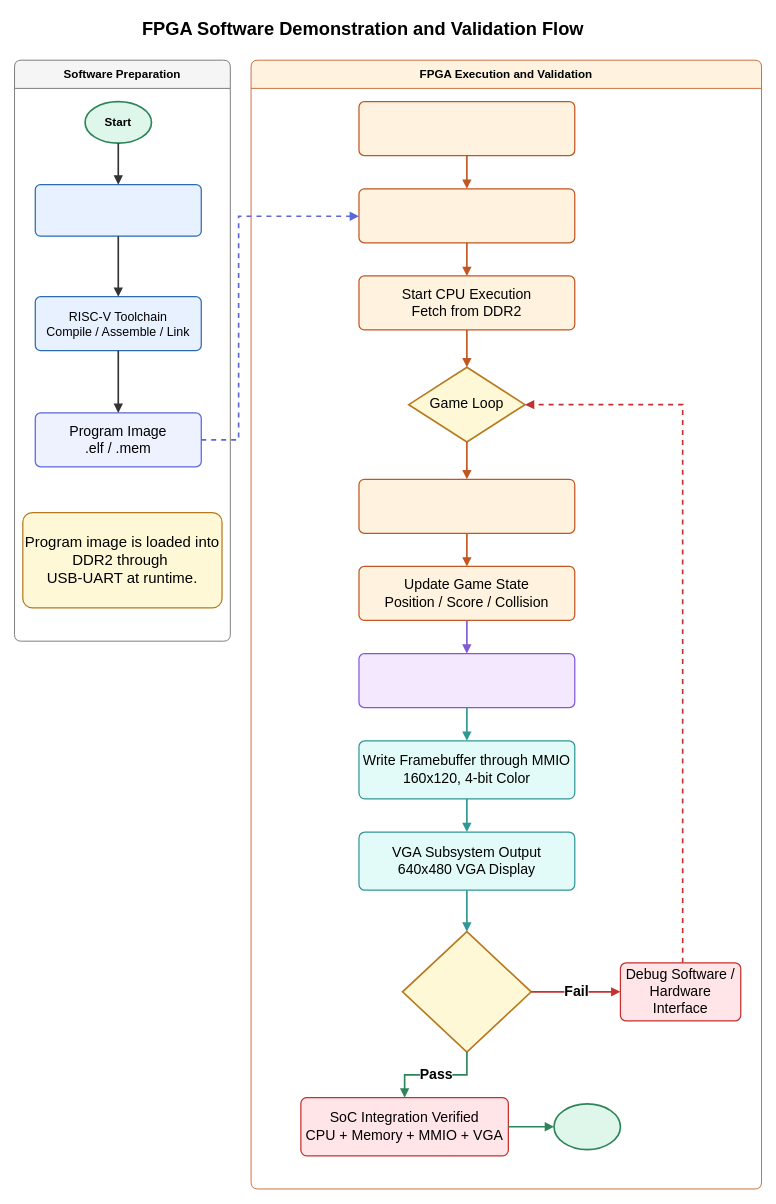
The diagram is 776 pixels wide and 1204 high, and some of its shapes have lost their labels. The shapes that lost their labels are listed below. From the top down, each one's centre as x and y in pixels, then its label:
(466,128): Configure FPGA RISC-V SoC + VGA System
(118,210): Game Source Code C / Assembly
(466,215): UART Bootloader Load Image to DDR2
(466,506): Read User Input UART Keyboard / Buttons
(466,680): Call Software APIs VGA API + I/O API
(466,991): Validation Result
(587,1126): End
